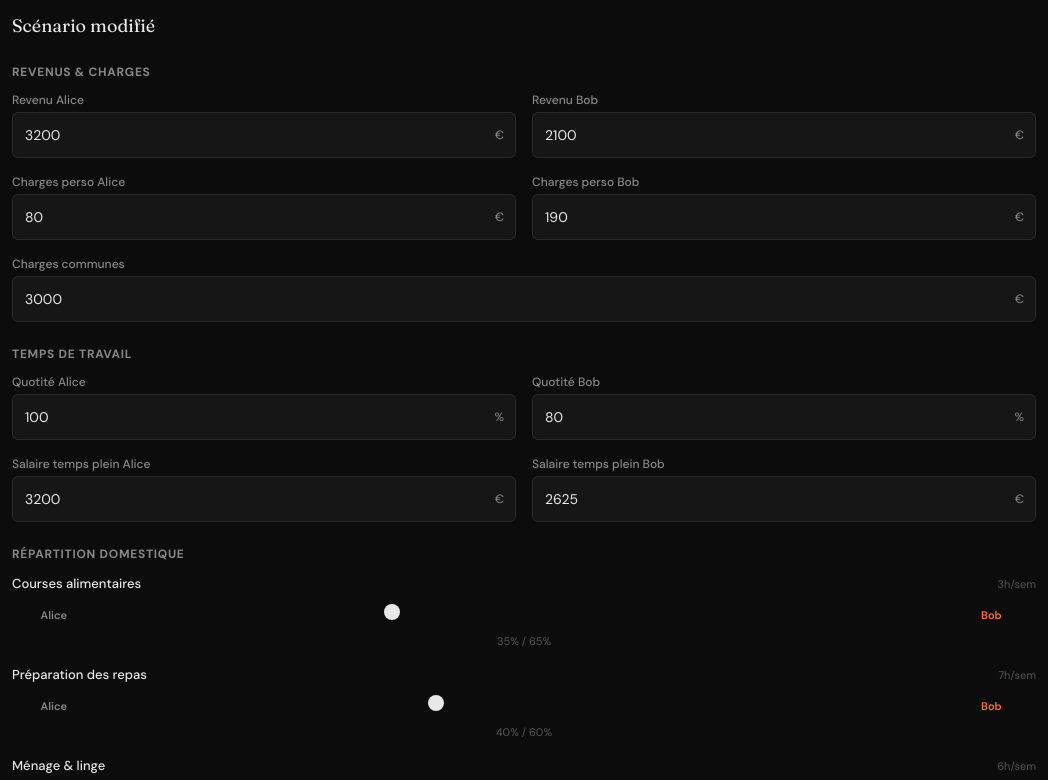
WhatIfPanel › Reset button restores all fields to initial snapshot values
Replace the text in the field labelled "Revenu Alice" with "5000" at (264, 135), box top-left (12, 112), bottom-right (516, 158)
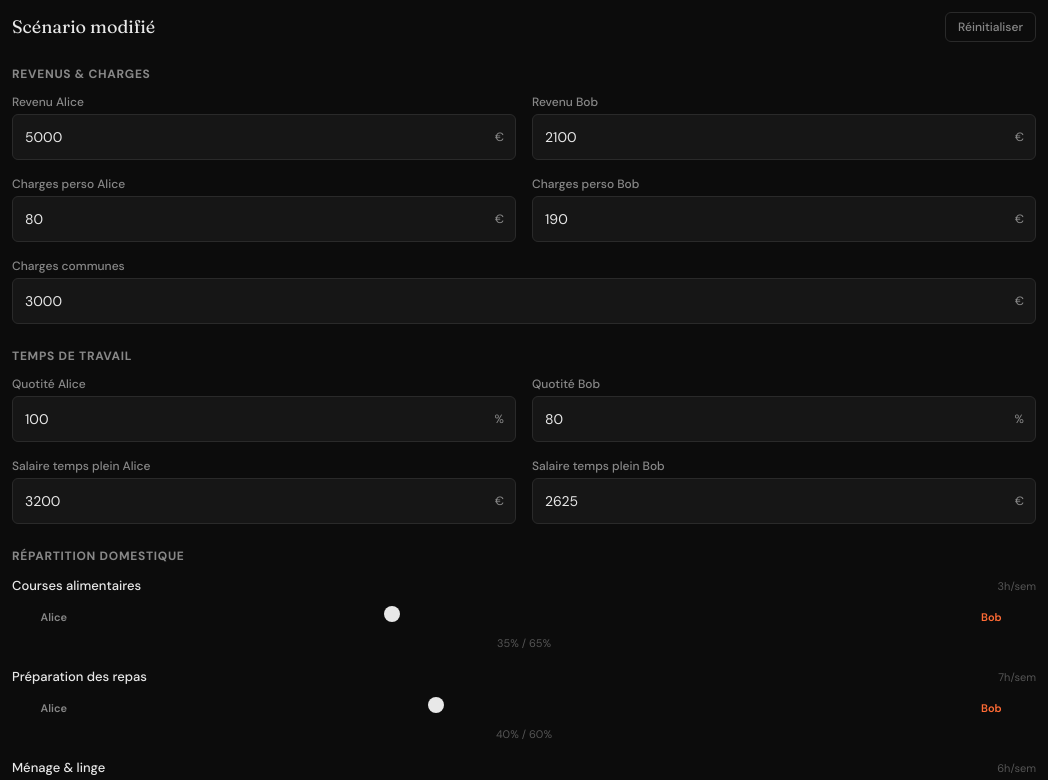
Click the button "Réinitialiser" at (990, 27), box top-left (945, 12), bottom-right (1036, 42)
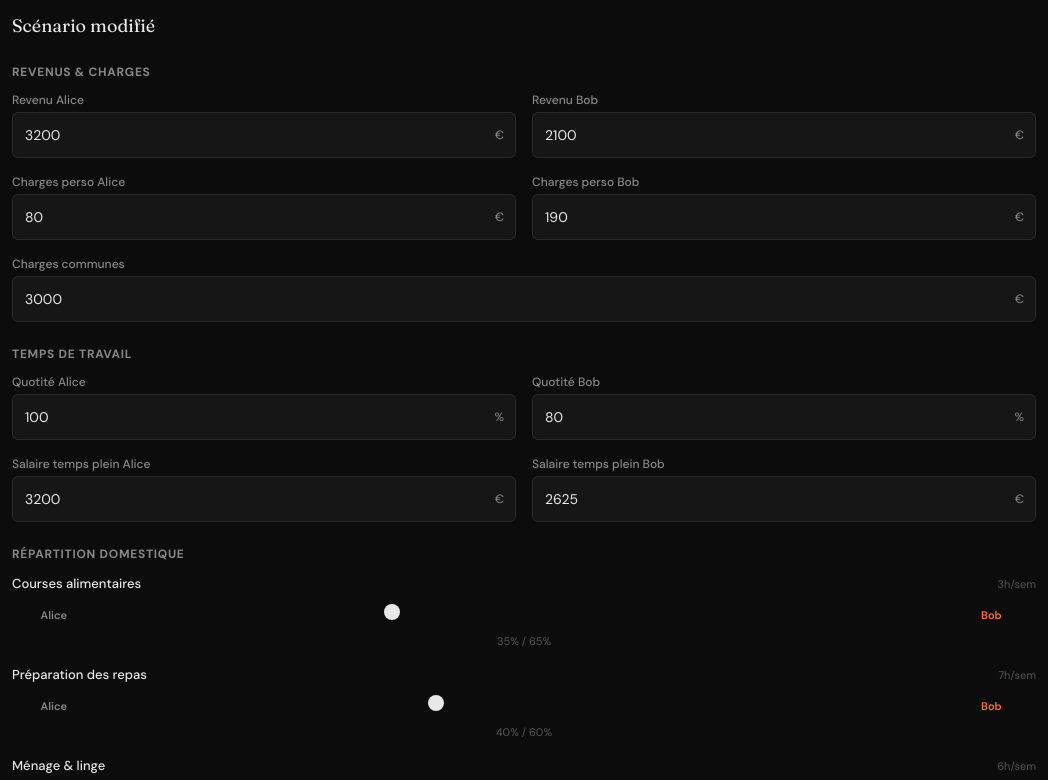
Now the field labelled "Revenu Alice" holds "3200", box top-left (12, 112), bottom-right (516, 158)
